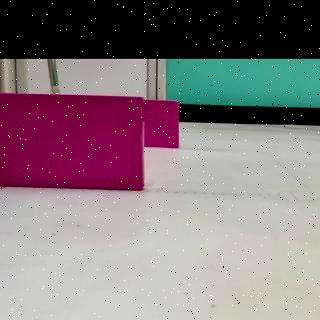xparking: (2, 95, 142, 188), (148, 100, 178, 148)
